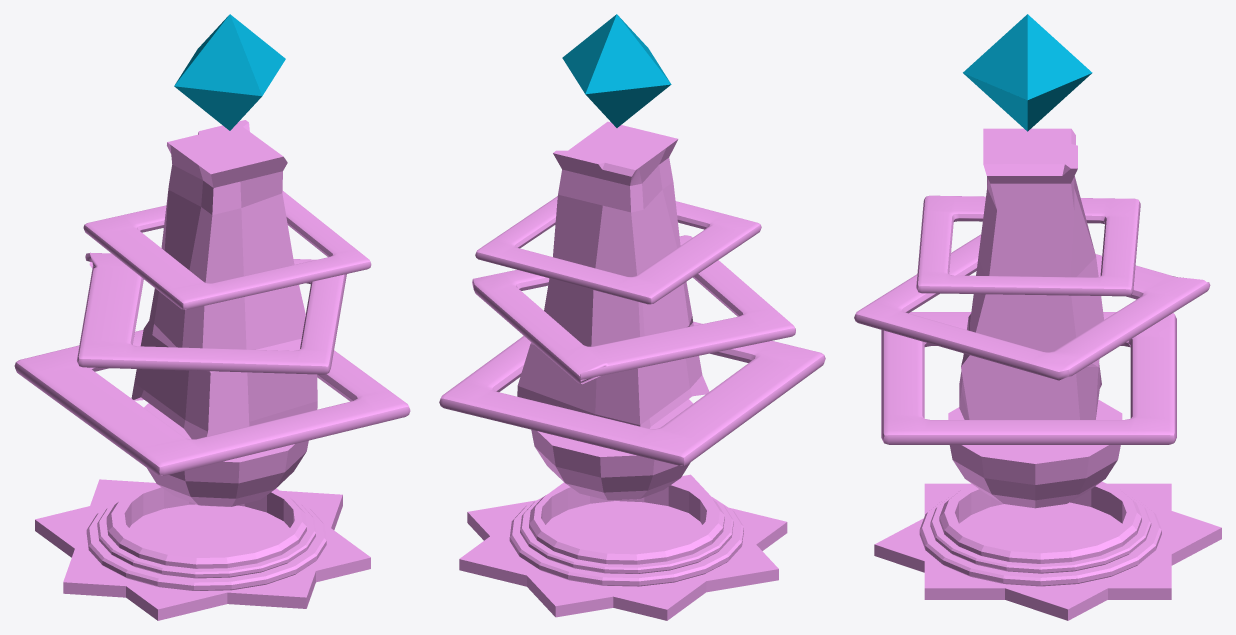
The picture shows the model from 3 angles, left to right: view 1: azimuth 30°, elevation 25°; view 2: azimuth 150°, elevation 25°; view 3: azimuth 270°, elevation 25°; orthographic projection. The views are drawn at different scales.
Visible parts, largest first — view 1: Tower, Base, Hovercube1, Hovercube3, Hovercube2, Crystal, Hoverbase; view 2: Base, Tower, Hovercube1, Hovercube3, Hovercube2, Crystal, Hoverbase; view 3: Base, Tower, Hovercube1, Hovercube3, Hovercube2, Hoverbase, Crystal.
Part boxes in pixels (<box>): Tower: <box>131,120,317,439</box>; Base: <box>35,479,370,620</box>; Hovercube1: <box>14,329,410,475</box>; Hovercube3: <box>77,252,346,374</box>; Hovercube2: <box>83,191,371,309</box>; Crystal: <box>174,14,285,130</box>; Hoverbase: <box>144,403,308,506</box>; Base: <box>459,474,787,620</box>; Tower: <box>517,121,709,428</box>; Hovercube1: <box>439,321,825,465</box>; Hovercube3: <box>472,235,795,384</box>; Hovercube2: <box>475,196,761,304</box>; Crystal: <box>562,14,671,127</box>; Hoverbase: <box>531,399,693,500</box>; Base: <box>874,481,1221,620</box>; Tower: <box>959,128,1103,419</box>; Hovercube1: <box>881,312,1176,444</box>; Hovercube3: <box>854,234,1210,380</box>; Hovercube2: <box>916,195,1140,296</box>; Hoverbase: <box>948,399,1122,508</box>; Crystal: <box>963,14,1092,131</box>.
Bounding box in the file's own units: 1.09 × 1.86 × 1.14.
